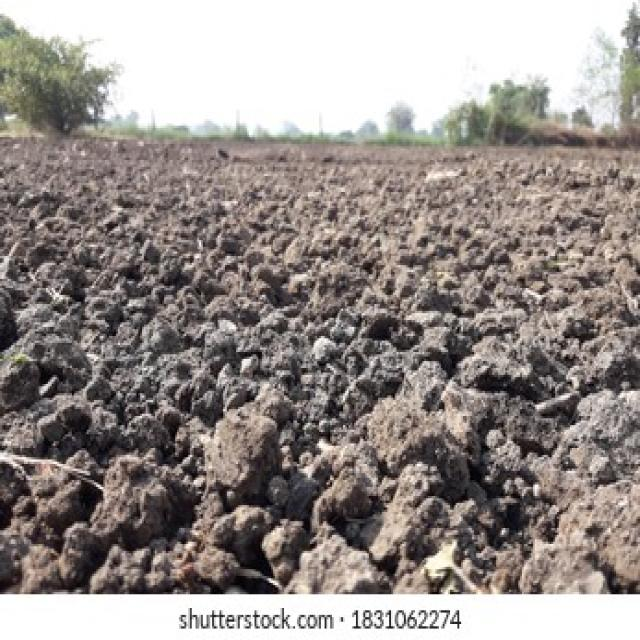Alluvial Soil: (24, 153, 315, 582), (365, 195, 607, 566)
